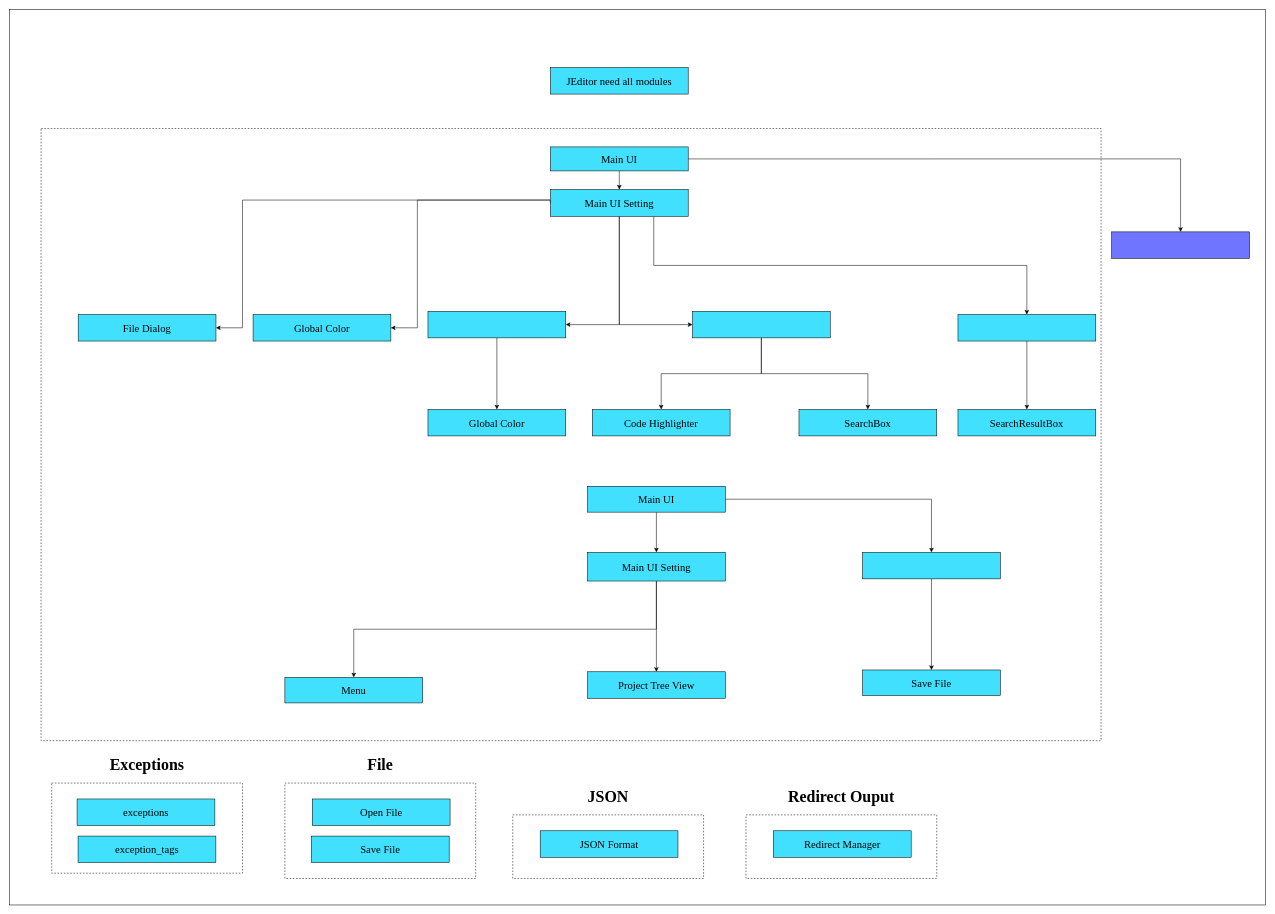
Some shapes in this 1275 by 914 pixel diagram are drawn without their labels. Here are the shapes that lost their labels. From the top down, the centre of each, then its label:
At [1180,244]: "Pyside6".
At [496,324]: "Exec Manager".
At [761,324]: "CodeEditor".
At [1026,327]: "Code Result".
At [931,565]: "AutoSave".
